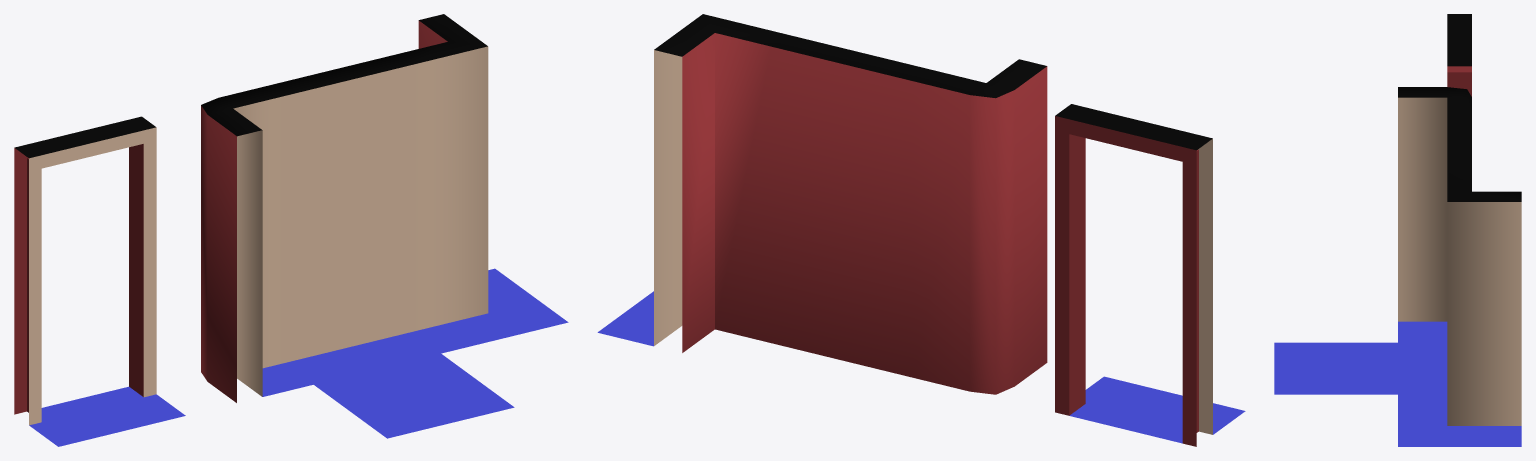
File: BasicWallSet.dae
3 renders of one model, left to right at view 1: azimuth 30°, elevation 25°; view 2: azimuth 150°, elevation 25°; view 3: azimuth 270°, elevation 25°, orthographic. The views are drawn at different scales.
Visible parts, largest first — view 1: Wall_B.002, InnerCorner_BL, Corner_BL.001, DOORWAY, Floor; view 2: Wall_B.002, Corner_BL.001, InnerCorner_BL, DOORWAY; view 3: InnerCorner_BL, Corner_BL.001, Floor, Wall_B.002, DOORWAY.
Boxes of the visible parts, x1,y1,x2,y2 form: Wall_B.002: (270,54,440,384); InnerCorner_BL: (397,14,568,353); Corner_BL.001: (201,85,313,402); DOORWAY: (14,116,185,446); Floor: (314,353,514,438); Wall_B.002: (771,35,928,377); Corner_BL.001: (913,59,1047,394); InnerCorner_BL: (597,14,787,352); DOORWAY: (1055,104,1245,446); InnerCorner_BL: (1398,170,1521,446); Corner_BL.001: (1398,87,1471,342); Floor: (1274,342,1397,394); Wall_B.002: (1398,118,1471,394); DOORWAY: (1447,14,1471,96).
Bounding box in the file's own units: 4 × 2 × 2.
